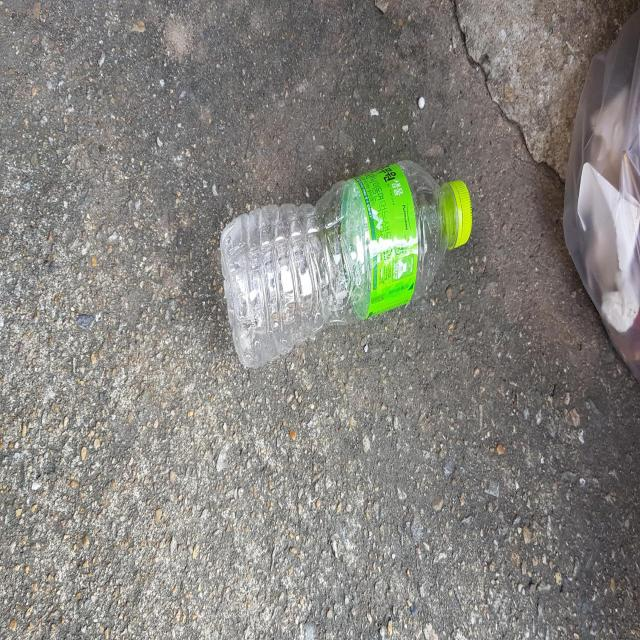plastic: (220, 159, 473, 367)
